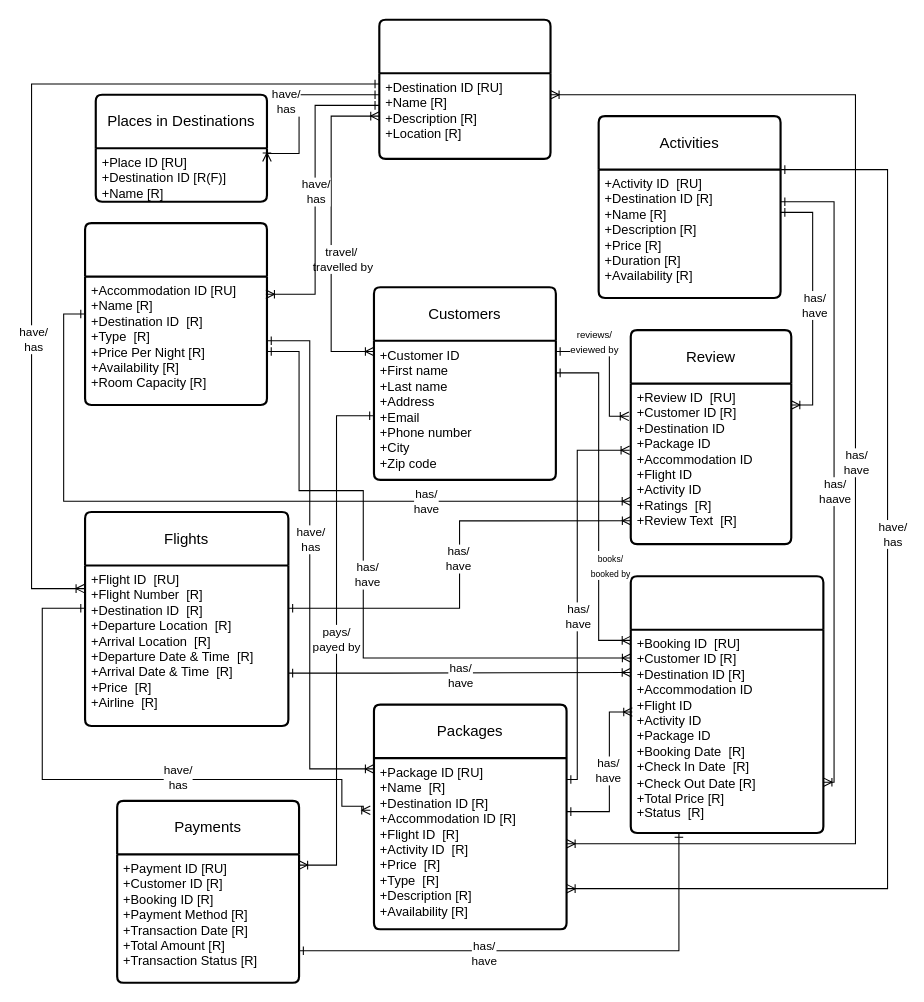
Image size: 924x1002. Some labels were removed from this diagram. The shapes that lost their labels are listed below. From the top down, each one's box as (x1, y1, x2, y2) in pixels, then its label:
(378, 18, 551, 159): Destinations
(83, 221, 268, 406): Accommodations
(629, 575, 824, 834): Bookings
